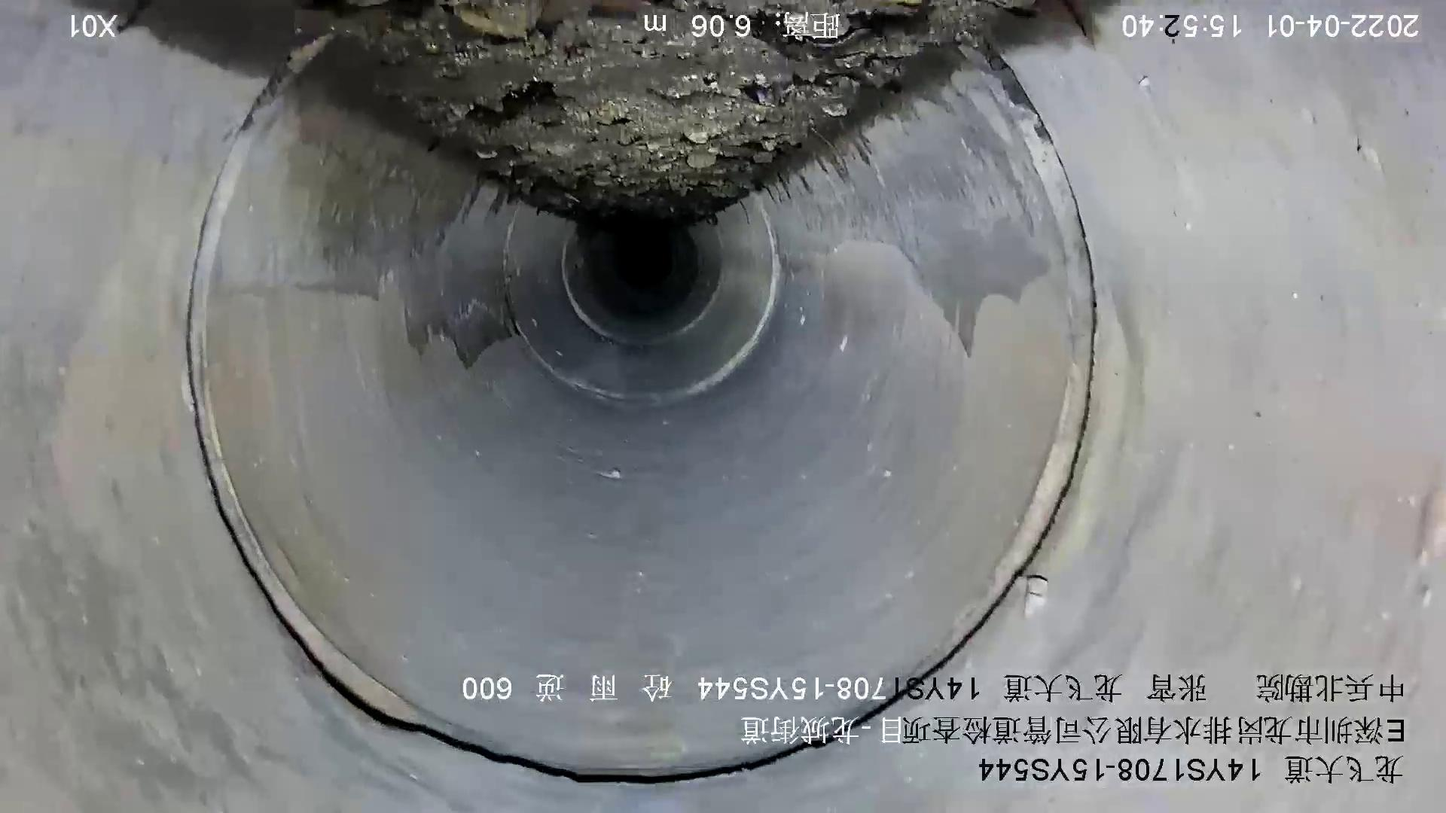CJ: (316, 1, 1025, 220)
CKTJ: (188, 32, 836, 784), (859, 54, 1100, 725), (515, 204, 782, 406)
